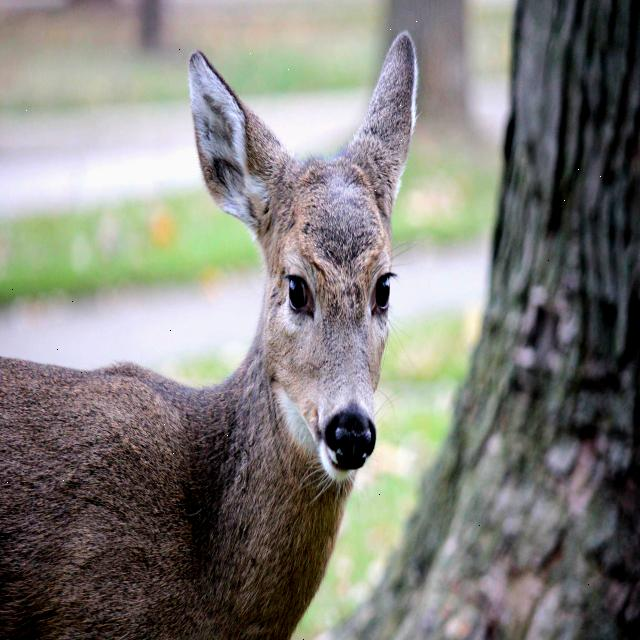deer: (0, 13, 437, 640)
